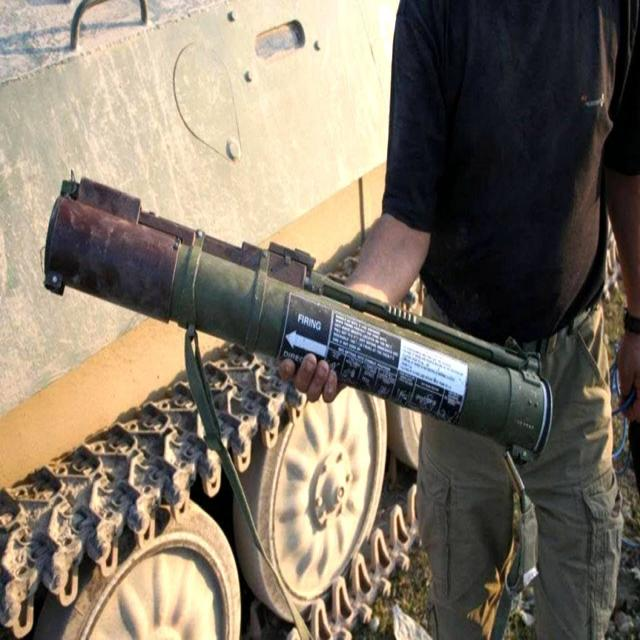bazooka: (40, 164, 559, 483)
